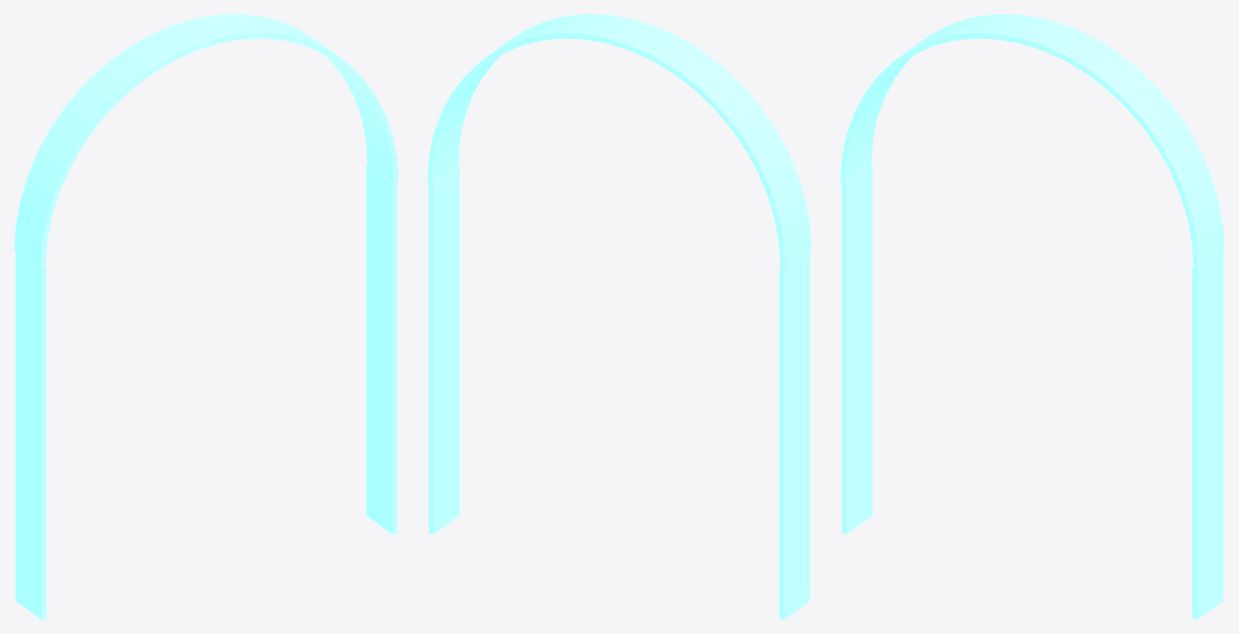
File: GateGlowRing.fbx
3 renders of one model, left to right at view 1: azimuth 30°, elevation 25°; view 2: azimuth 150°, elevation 25°; view 3: azimuth 330°, elevation 25°, orthographic.
Visible parts, largest first — view 1: GateGlowArch.001; view 2: GateGlowArch.001; view 3: GateGlowArch.001.
Boxes of the visible parts, box(x1,y1,x2,y2) form: GateGlowArch.001: box(14, 14, 398, 619); GateGlowArch.001: box(427, 14, 811, 619); GateGlowArch.001: box(840, 14, 1224, 619).
Size of the model in its own units: 4270 by 6135 by 540.
